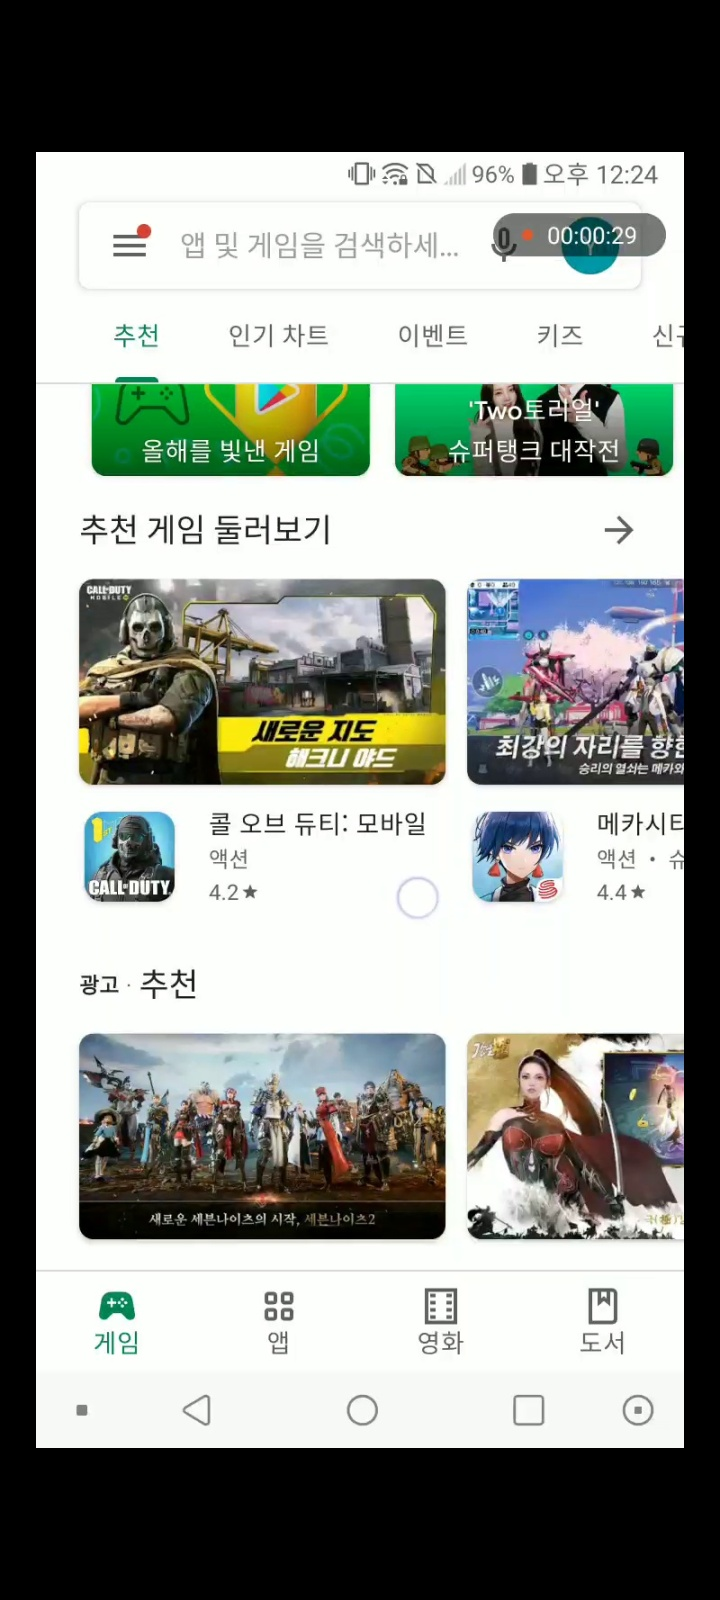Cursor: (396, 876, 441, 921)
